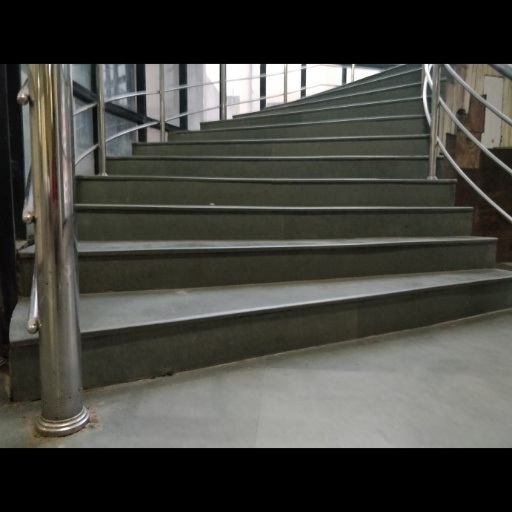Stairs: (76, 67, 512, 387)
